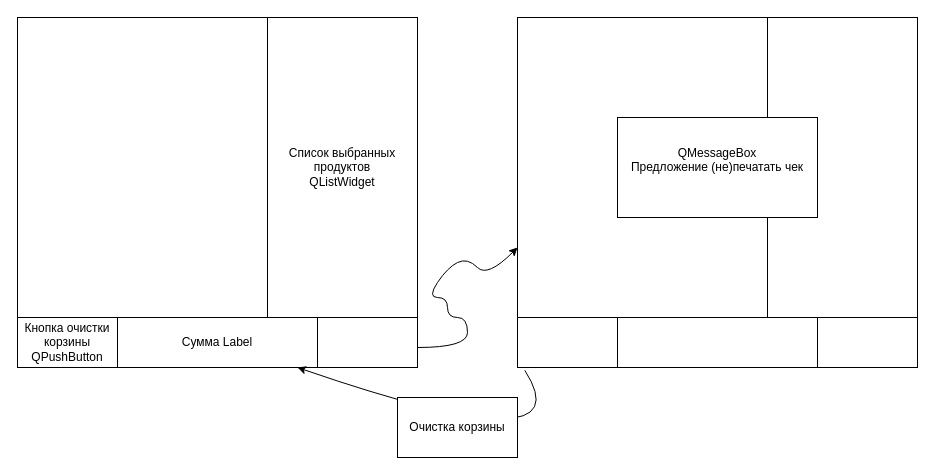
The diagram is 935 pixels wide and 475 high, and some of its shapes have lost their labels. The centre of each missing label's shape, as x and y in pixels:
"Выбор продуктов QListWidget" belongs at (x=142, y=167).
"Кнопка покупки QPushButton" belongs at (x=367, y=342).
